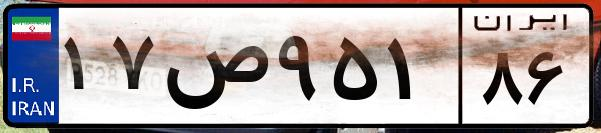1: (385, 28, 445, 110), (57, 26, 110, 100)
5: (330, 28, 385, 110)
6: (525, 38, 570, 115)
7: (110, 28, 158, 98)
8: (475, 38, 525, 113)
9: (270, 28, 330, 110)
ص: (158, 20, 270, 120)
